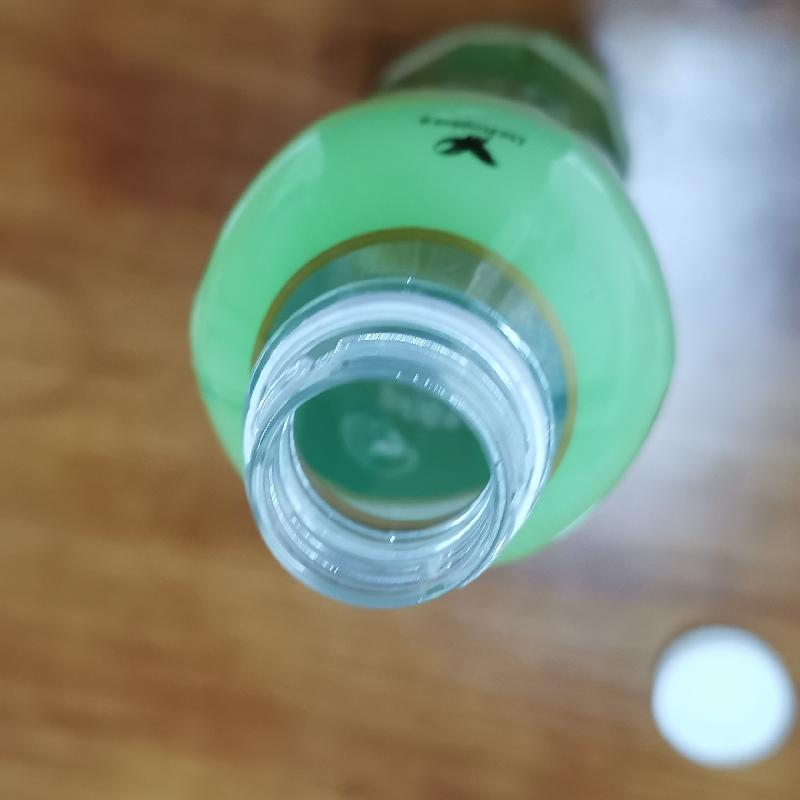bottles: (186, 23, 685, 614)
